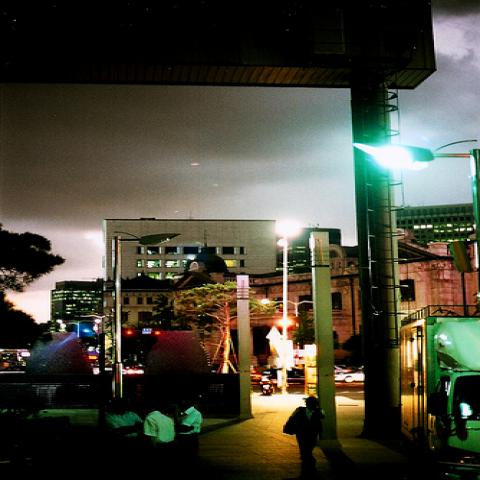truck: (398, 305, 479, 479)
